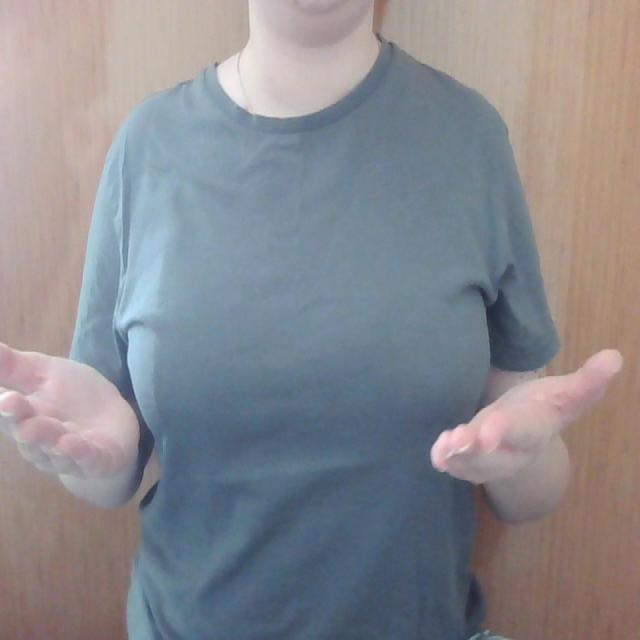Evet: (0, 338, 627, 492)
